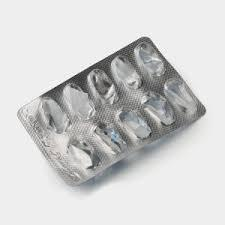pill_Strip: (18, 37, 205, 184)
